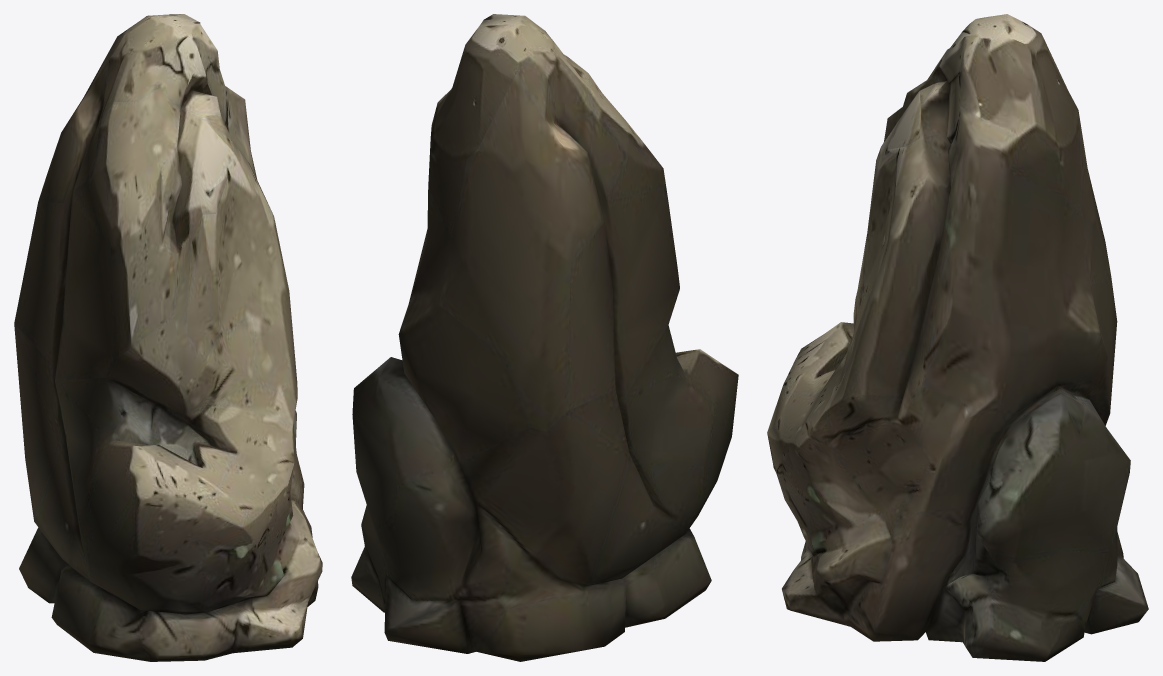
File: seal_stone.glb
The picture shows the model from 3 angles, left to right: view 1: azimuth 30°, elevation 25°; view 2: azimuth 150°, elevation 25°; view 3: azimuth 270°, elevation 25°; orthographic projection. The views are drawn at different scales.
Visible parts, largest first — view 1: seal_stone Studio finished mesh; view 2: seal_stone Studio finished mesh; view 3: seal_stone Studio finished mesh.
Boxes of the visible parts, <box> form: seal_stone Studio finished mesh: <box>14,14,322,661</box>; seal_stone Studio finished mesh: <box>351,14,738,661</box>; seal_stone Studio finished mesh: <box>767,14,1148,661</box>.
Size of the model in its own units: 1.49 by 2.98 by 1.78.
Materials: 1 (1 with a texture image).
